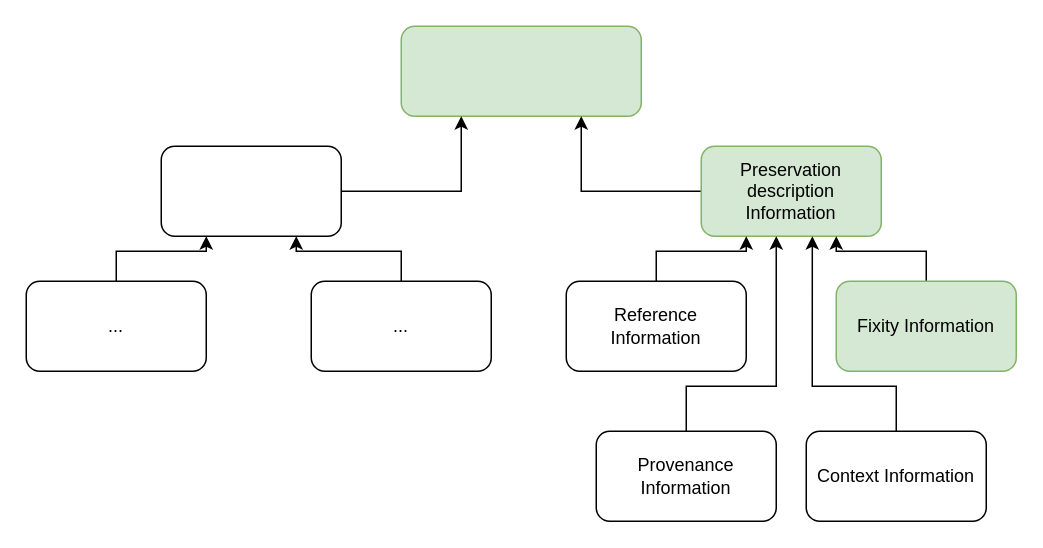
This 1043x548 diagram has some shape labels left out. Each missing label, with the box of its shape:
Content Information: (160, 145, 341, 236)
Information Object: (400, 25, 641, 116)
